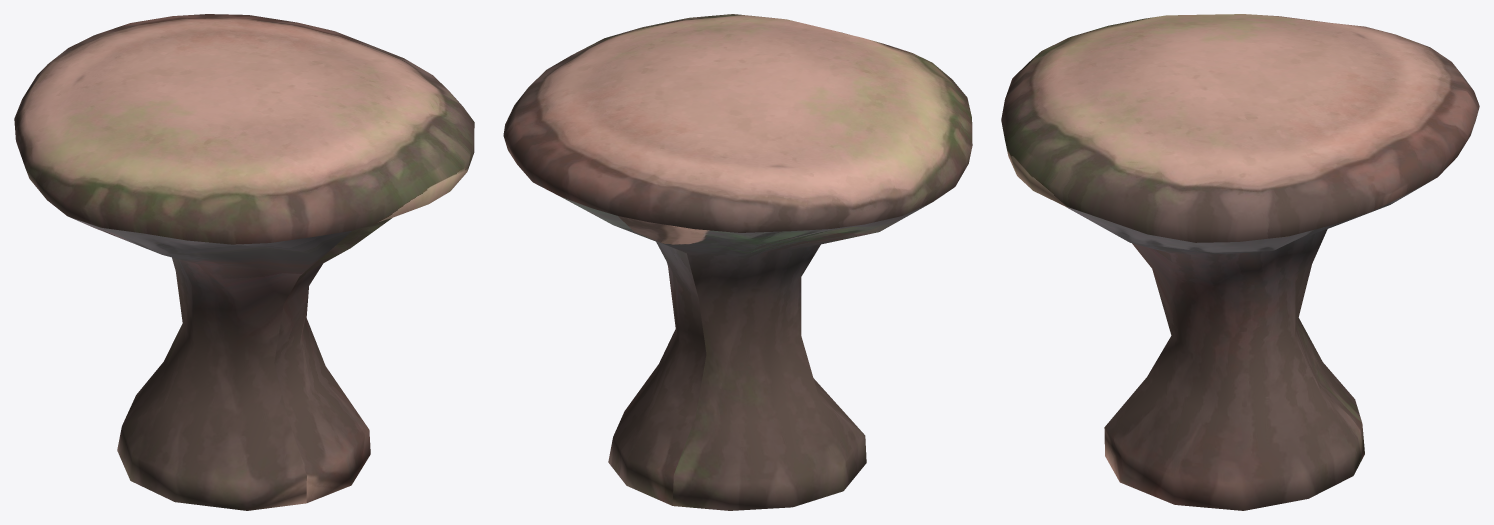
File: softcoral-big-02.glb
3 renders of one model, left to right at view 1: azimuth 30°, elevation 25°; view 2: azimuth 150°, elevation 25°; view 3: azimuth 270°, elevation 25°, orthographic. The views are drawn at different scales.
Visible parts, largest first — view 1: Coral02_low; view 2: Coral02_low; view 3: Coral02_low.
Boxes of the visible parts, <box> form: Coral02_low: <box>14,14,474,510</box>; Coral02_low: <box>503,14,972,510</box>; Coral02_low: <box>1001,14,1479,510</box>.
Bounding box in the file's own units: 3.7 × 3.35 × 3.73.
1 material, 1 textured.
